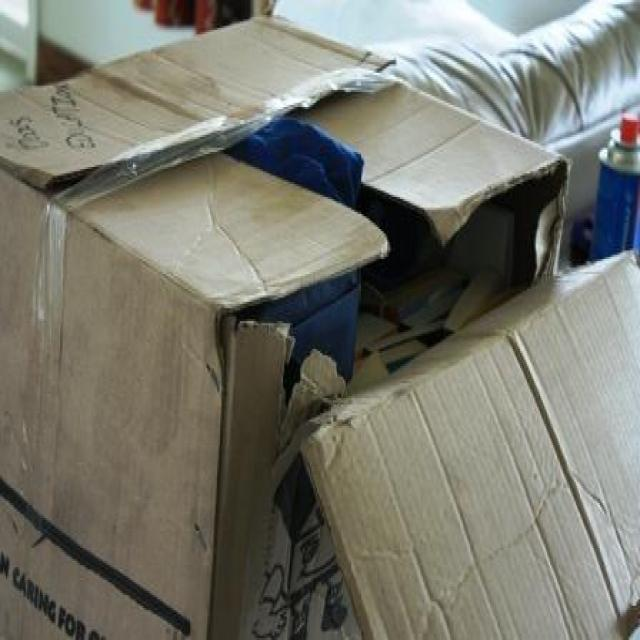damaged: (183, 162, 573, 360)
